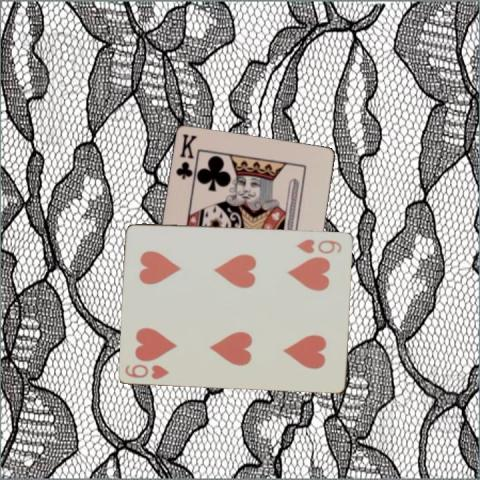6h: (294, 236, 343, 256), (122, 360, 171, 380)
Kc: (173, 132, 199, 182)
